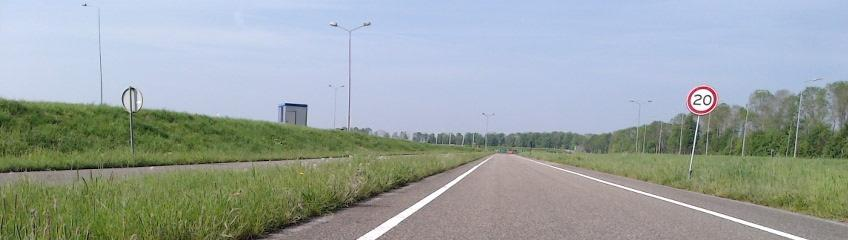Speed-limit-20km-h-: (688, 87, 716, 113)
